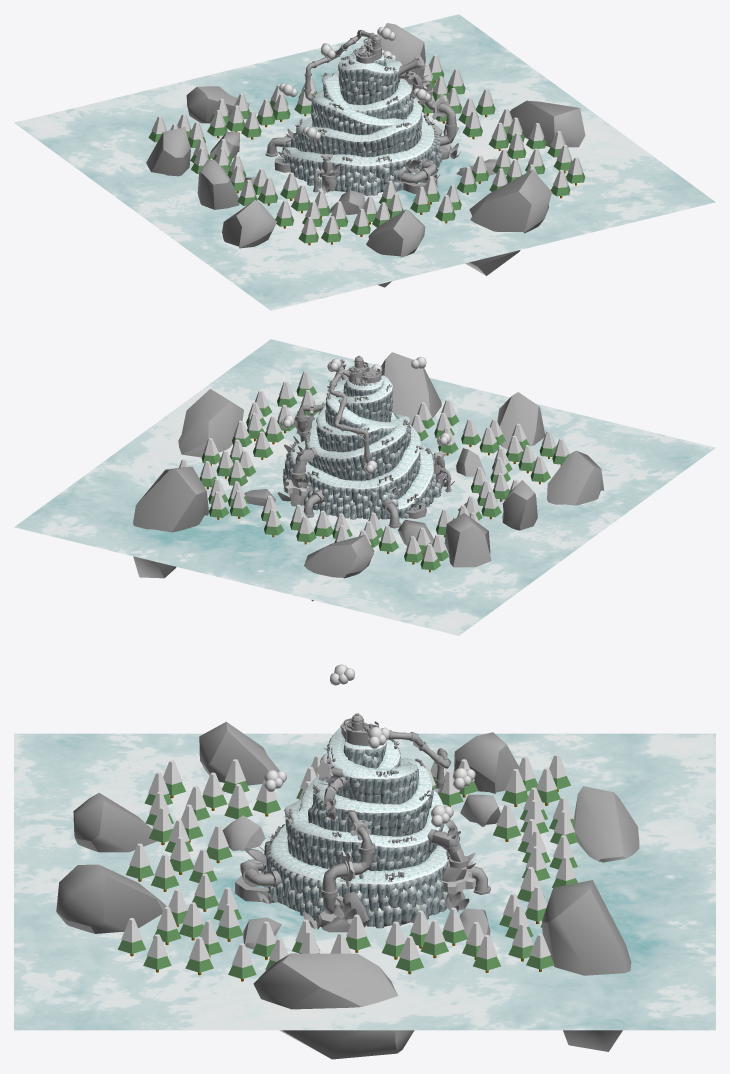
File: Export_Ice_Environment.fbx
The picture shows the model from 3 angles, top to bottom: view 1: azimuth 30°, elevation 25°; view 2: azimuth 150°, elevation 25°; view 3: azimuth 270°, elevation 25°; orthographic projection. The views are drawn at different scales.
Parts seen in each view (by area): view 1: Base_Underground, Underground1, Trees, Stone_Base, Base_Ground, wolkjes; view 2: Base_Underground, Underground1, Trees, Stone_Base, Base_Ground, wolkjes; view 3: Base_Underground, Underground1, Trees, Stone_Base, Base_Ground, wolkjes.
Part boxes in pixels (left/top/right/bottom): Base_Underground: left=14, top=14, right=715, bottom=310; Underground1: left=146, top=23, right=585, bottom=287; Trees: left=148, top=54, right=585, bottom=245; Stone_Base: left=281, top=54, right=442, bottom=195; Base_Ground: left=282, top=51, right=434, bottom=166; wolkjes: left=279, top=27, right=430, bottom=140; Base_Underground: left=14, top=339, right=715, bottom=635; Underground1: left=133, top=352, right=604, bottom=601; Trees: left=179, top=371, right=569, bottom=572; Stone_Base: left=282, top=378, right=441, bottom=519; Base_Ground: left=290, top=375, right=433, bottom=509; wolkjes: left=280, top=357, right=451, bottom=473; Base_Underground: left=14, top=733, right=715, bottom=1030; Underground1: left=56, top=713, right=639, bottom=1059; Trees: left=118, top=754, right=578, bottom=981; Stone_Base: left=261, top=735, right=448, bottom=928; Base_Ground: left=270, top=727, right=449, bottom=884; wolkjes: left=264, top=664, right=475, bottom=827.
Bounding box in the file's own units: 108 × 44.66 × 108.
